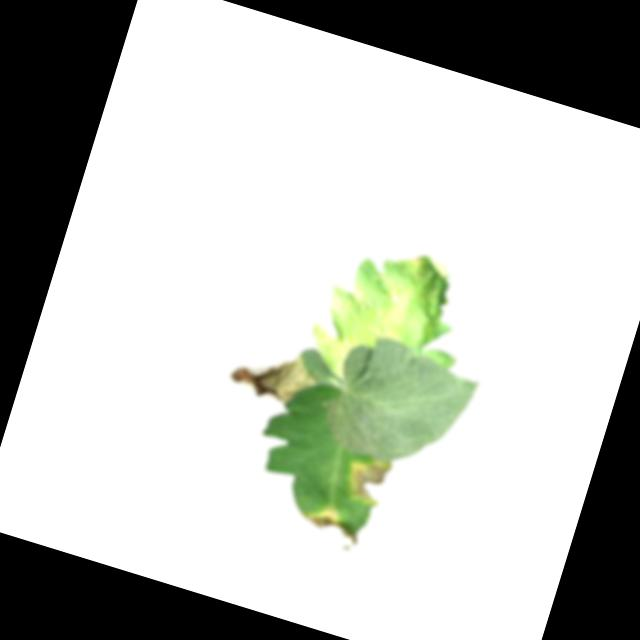Late_blight: (224, 332, 325, 413), (302, 501, 366, 552), (341, 452, 396, 508), (402, 251, 433, 284), (381, 282, 410, 311)
